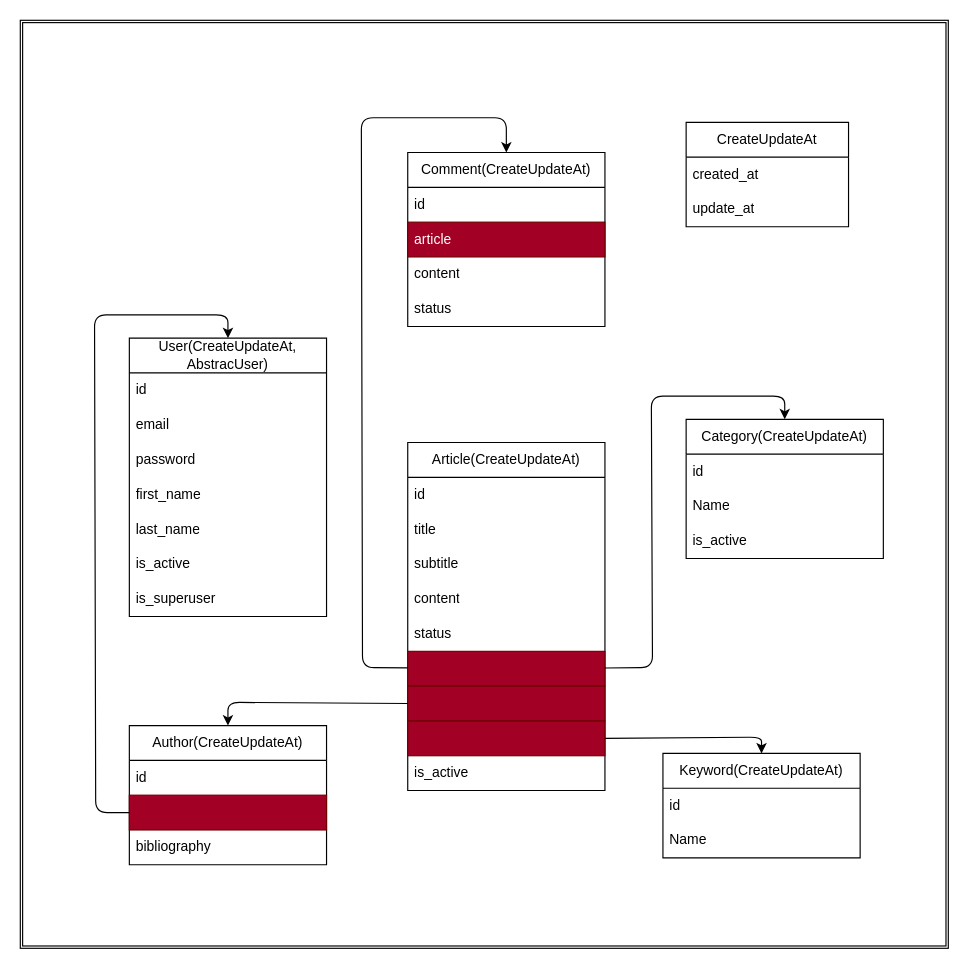
Some shapes in this 969 by 969 pixel diagram are drawn without their labels. Each missing label, with the centre of its shape:
author: the point at 506,703
category: the point at 506,668
keywords: the point at 506,738
user: the point at 227,812
